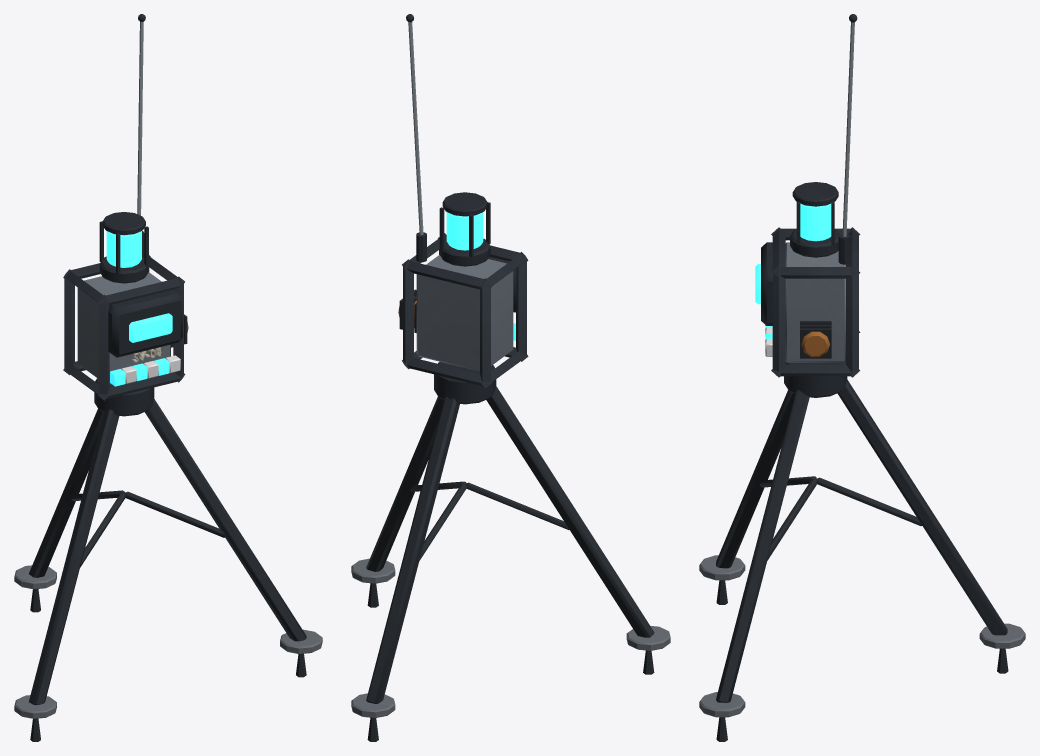
The model's file is salvage_beacon.glb.
3 renders of one model, left to right at view 1: azimuth 30°, elevation 25°; view 2: azimuth 150°, elevation 25°; view 3: azimuth 270°, elevation 25°, orthographic. The views are drawn at different scales.
Parts seen in each view (by area): view 1: salvage_beacon; view 2: salvage_beacon; view 3: salvage_beacon.
Part boxes in pixels (box(x1,y1,x2,y2)): salvage_beacon: box(14, 14, 322, 741); salvage_beacon: box(351, 14, 670, 741); salvage_beacon: box(699, 14, 1025, 741).
Size of the model in its own units: 1.28 by 2.59 by 1.13.
Materials: 10 (7 with a texture image).
